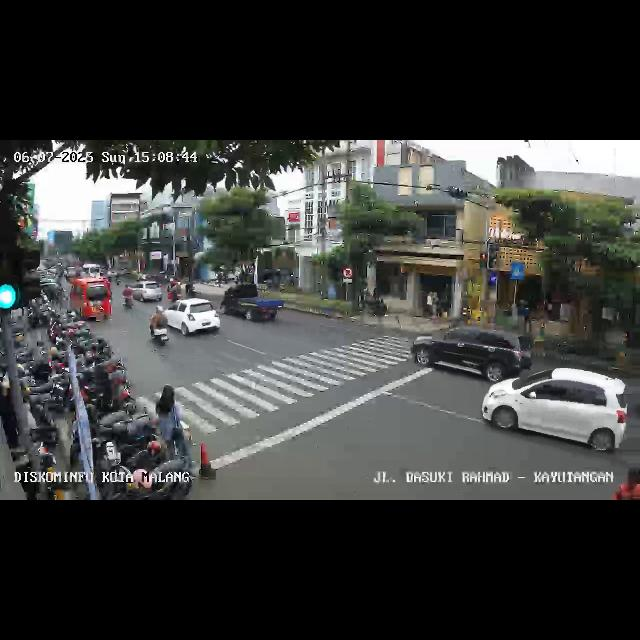car: (482, 368, 628, 460), (411, 326, 531, 380), (160, 298, 222, 342), (221, 285, 281, 325), (66, 276, 112, 324), (124, 280, 162, 306)
motorcycle: (150, 306, 170, 348), (165, 279, 182, 301), (122, 284, 134, 310), (185, 277, 198, 297)
person: (153, 383, 183, 445)
